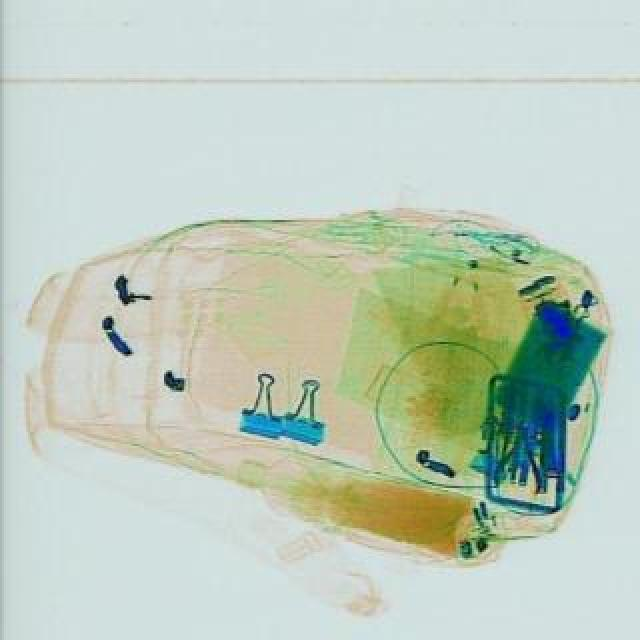wrench: (490, 412, 550, 492)
